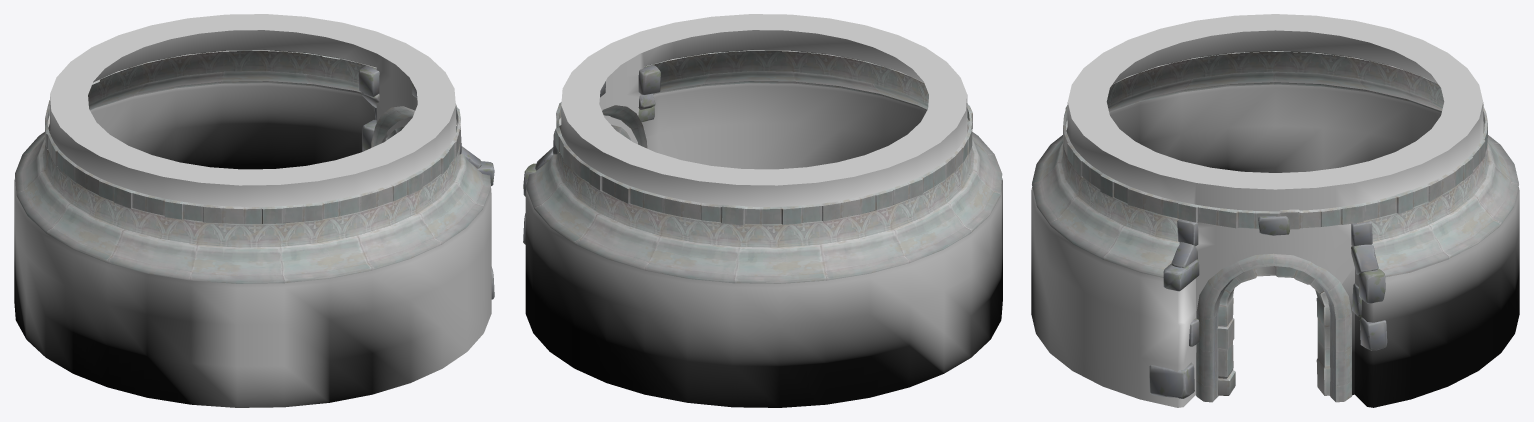
File: SM_TowerA_Bottom.fbx
The picture shows the model from 3 angles, left to right: view 1: azimuth 30°, elevation 25°; view 2: azimuth 150°, elevation 25°; view 3: azimuth 270°, elevation 25°; orthographic projection. The views are drawn at different scales.
Visible parts, largest first — view 1: SM_TowerA_Bottom_LOD0; view 2: SM_TowerA_Bottom_LOD0; view 3: SM_TowerA_Bottom_LOD0.
Part boxes in pixels (x1,y1,x2,y2): SM_TowerA_Bottom_LOD0: (14, 14, 494, 407); SM_TowerA_Bottom_LOD0: (523, 14, 1002, 407); SM_TowerA_Bottom_LOD0: (1031, 14, 1519, 407).
Size of what is drawn, in the model's own units: 9.09 by 4.53 by 9.41.
